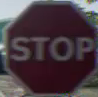Stop: (3, 4, 94, 89)
